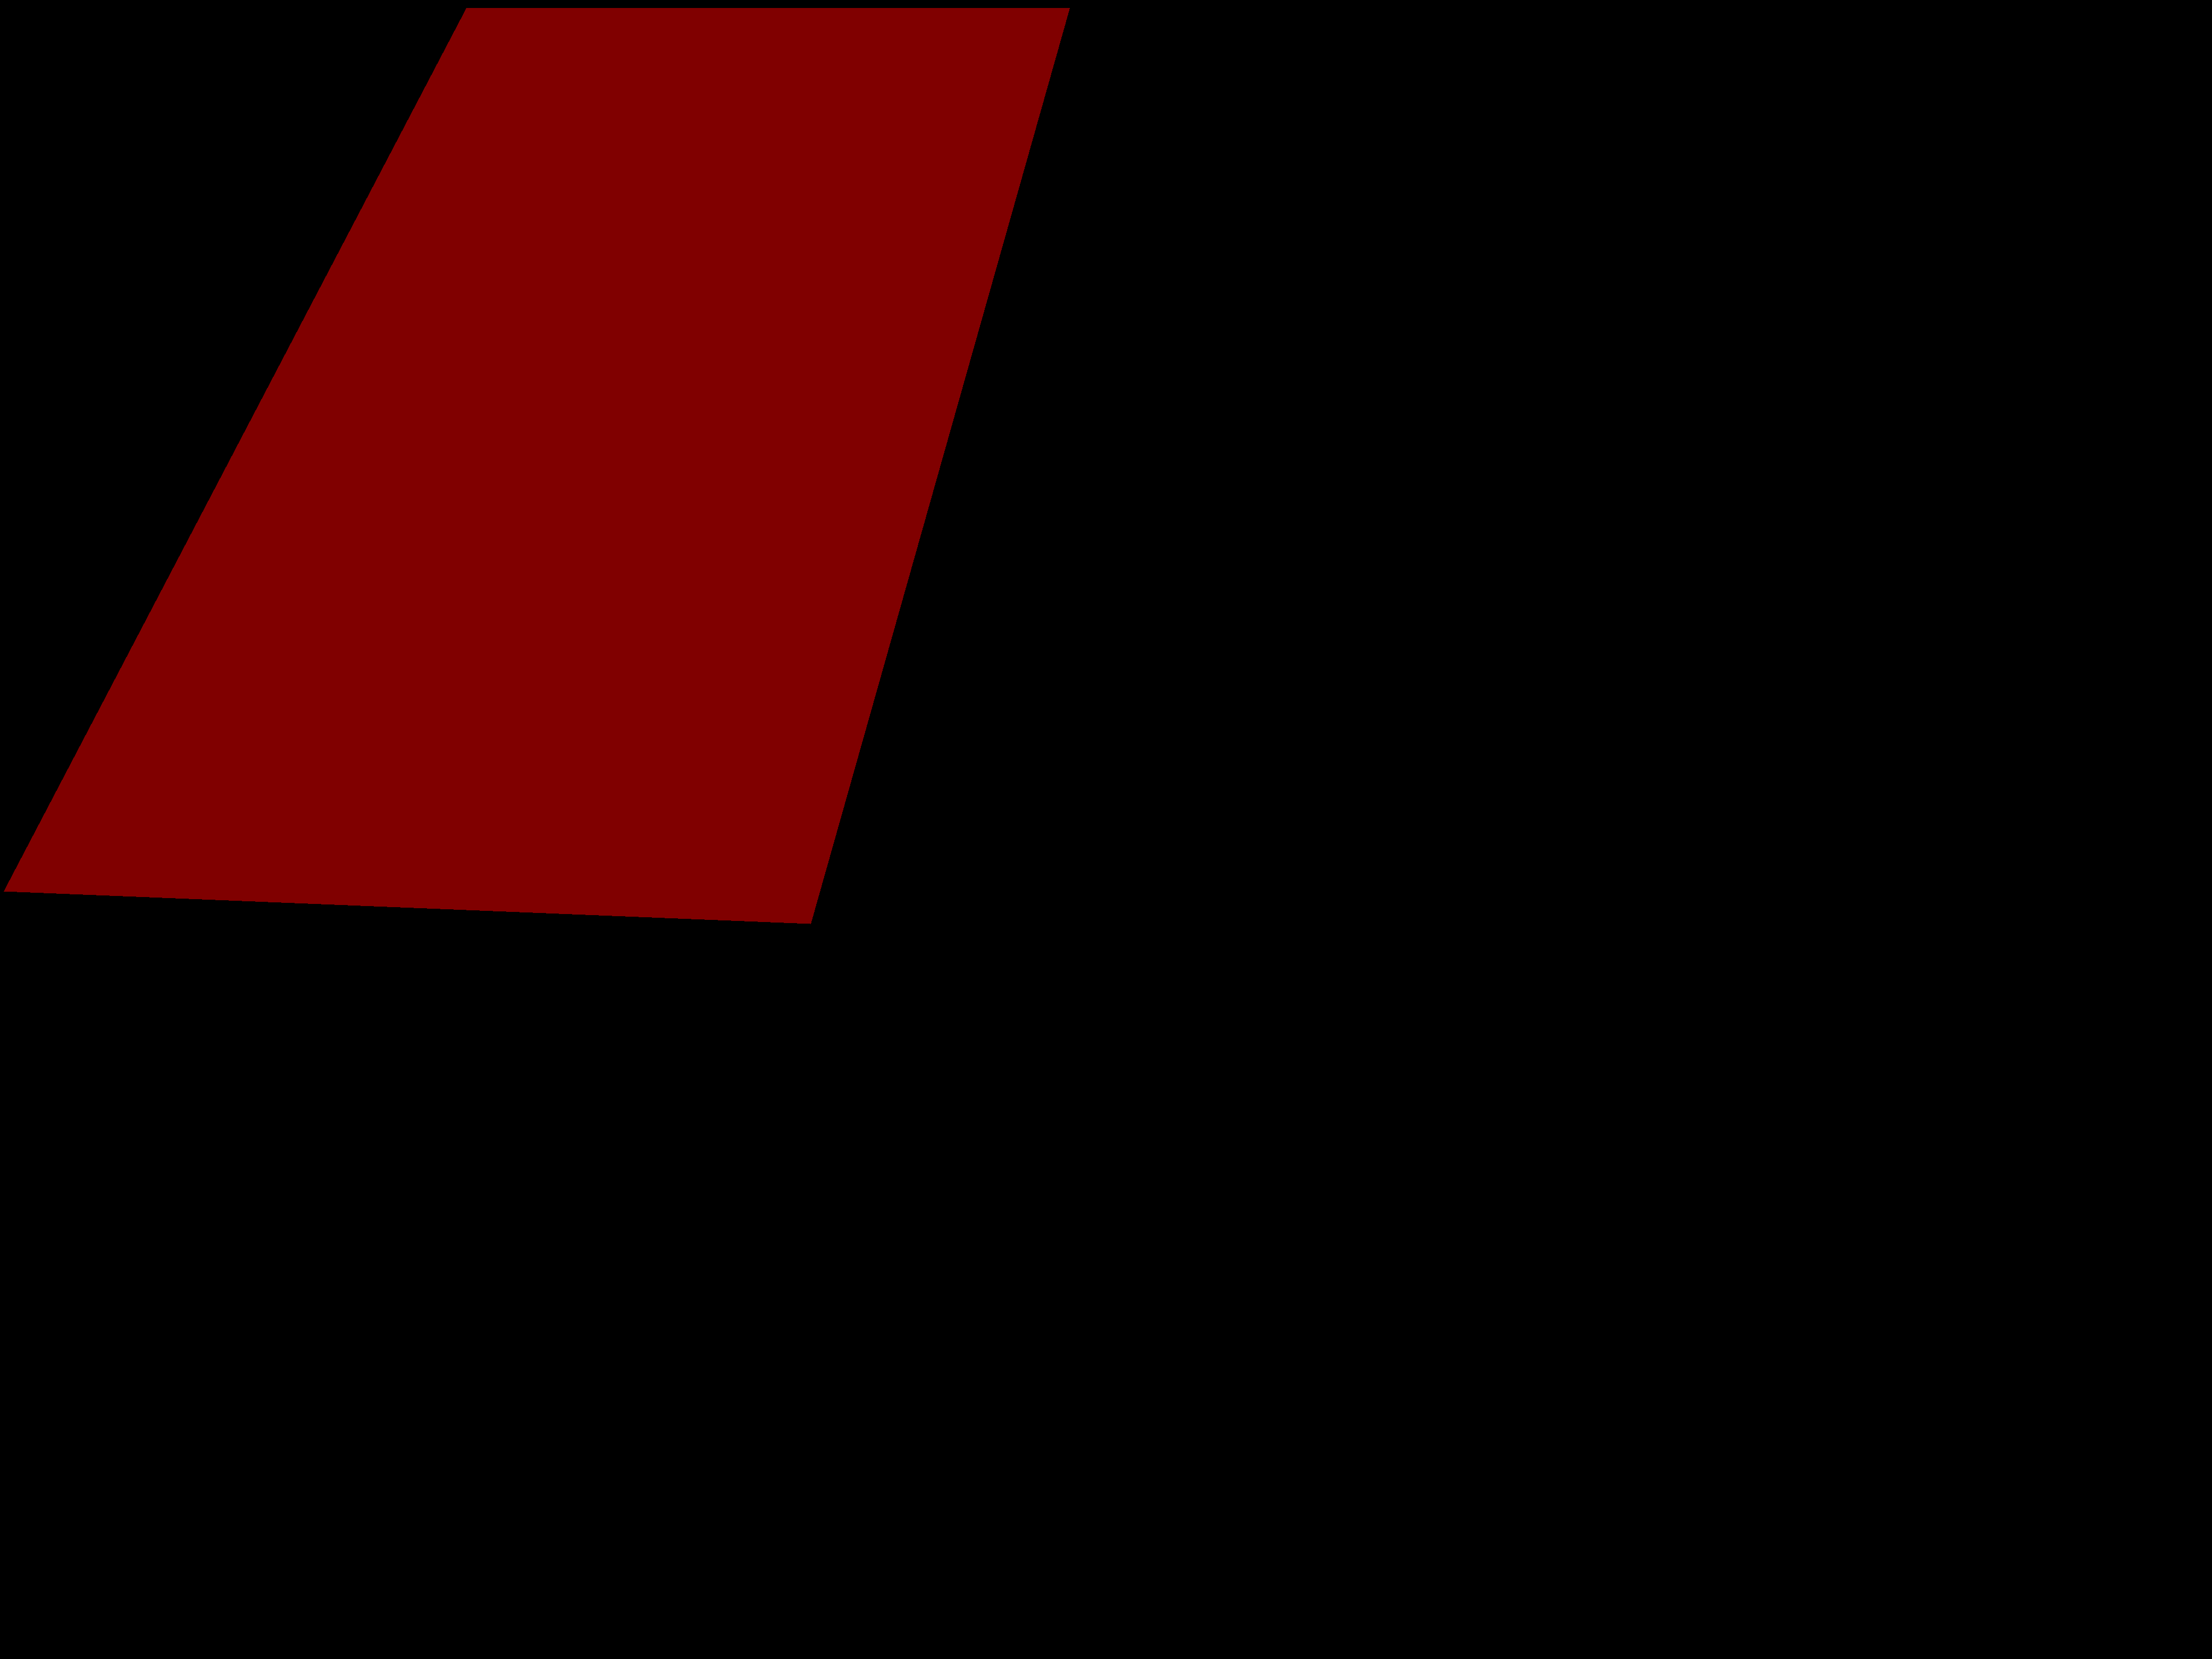stair: (3, 9, 1069, 924)
